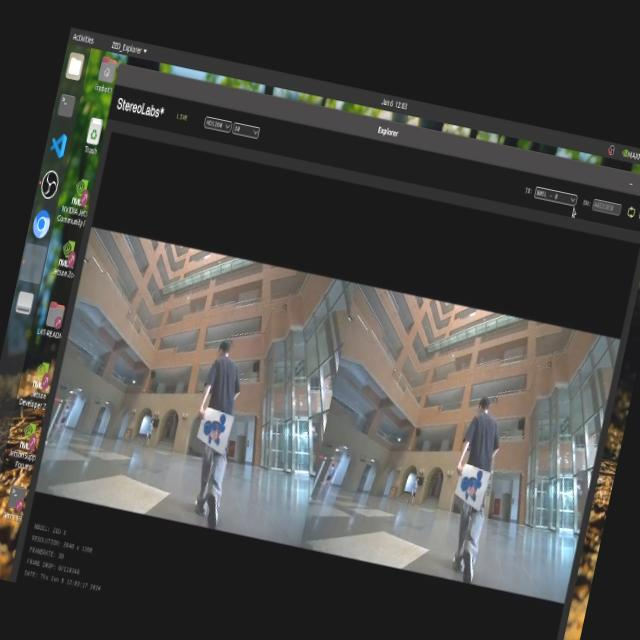blue: (190, 406, 236, 454), (446, 460, 488, 509)
